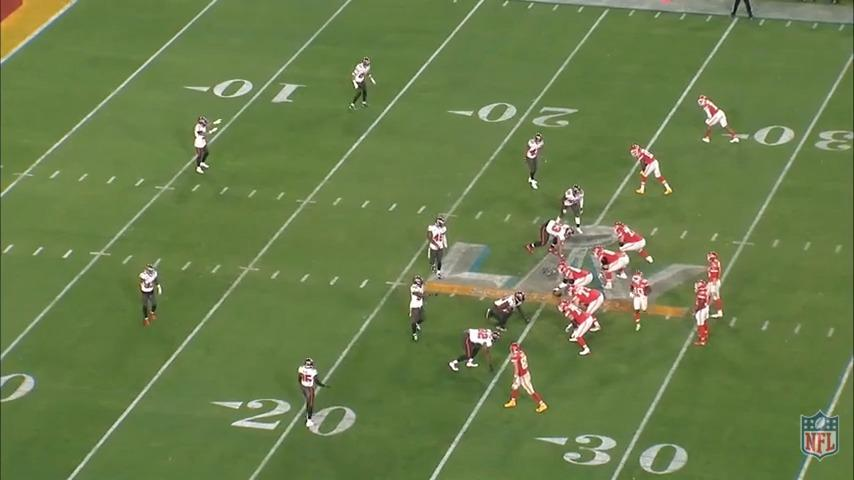player: (502, 344, 548, 418), (448, 326, 502, 372), (696, 93, 742, 145), (632, 142, 675, 197), (526, 219, 582, 258), (296, 356, 325, 431), (560, 300, 596, 360), (687, 276, 713, 349), (614, 221, 655, 264), (192, 112, 219, 177), (569, 282, 604, 332), (141, 260, 166, 330), (408, 274, 431, 345), (350, 54, 378, 111), (490, 291, 528, 333), (702, 248, 724, 320), (627, 270, 652, 331), (594, 245, 631, 286), (427, 213, 450, 278), (523, 132, 546, 193), (560, 185, 587, 233), (557, 262, 592, 290)
ref: (730, 0, 758, 20)
